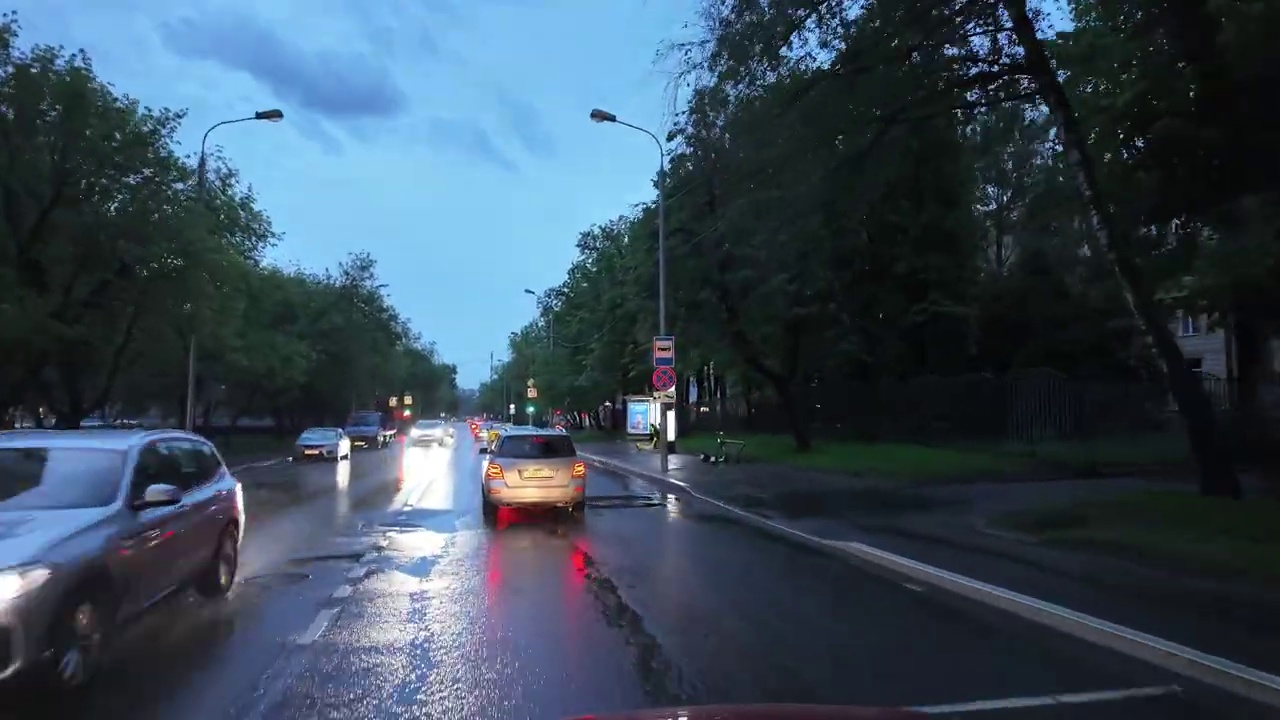apagada: (251, 103, 286, 128), (586, 103, 618, 130)
